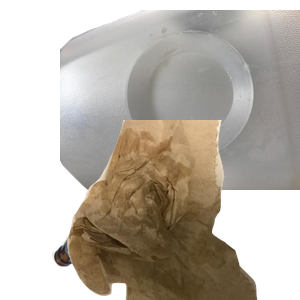glass: (49, 145, 229, 300)
metal: (75, 56, 198, 185)
plastic: (60, 10, 300, 190)
trash: (65, 120, 300, 300)
